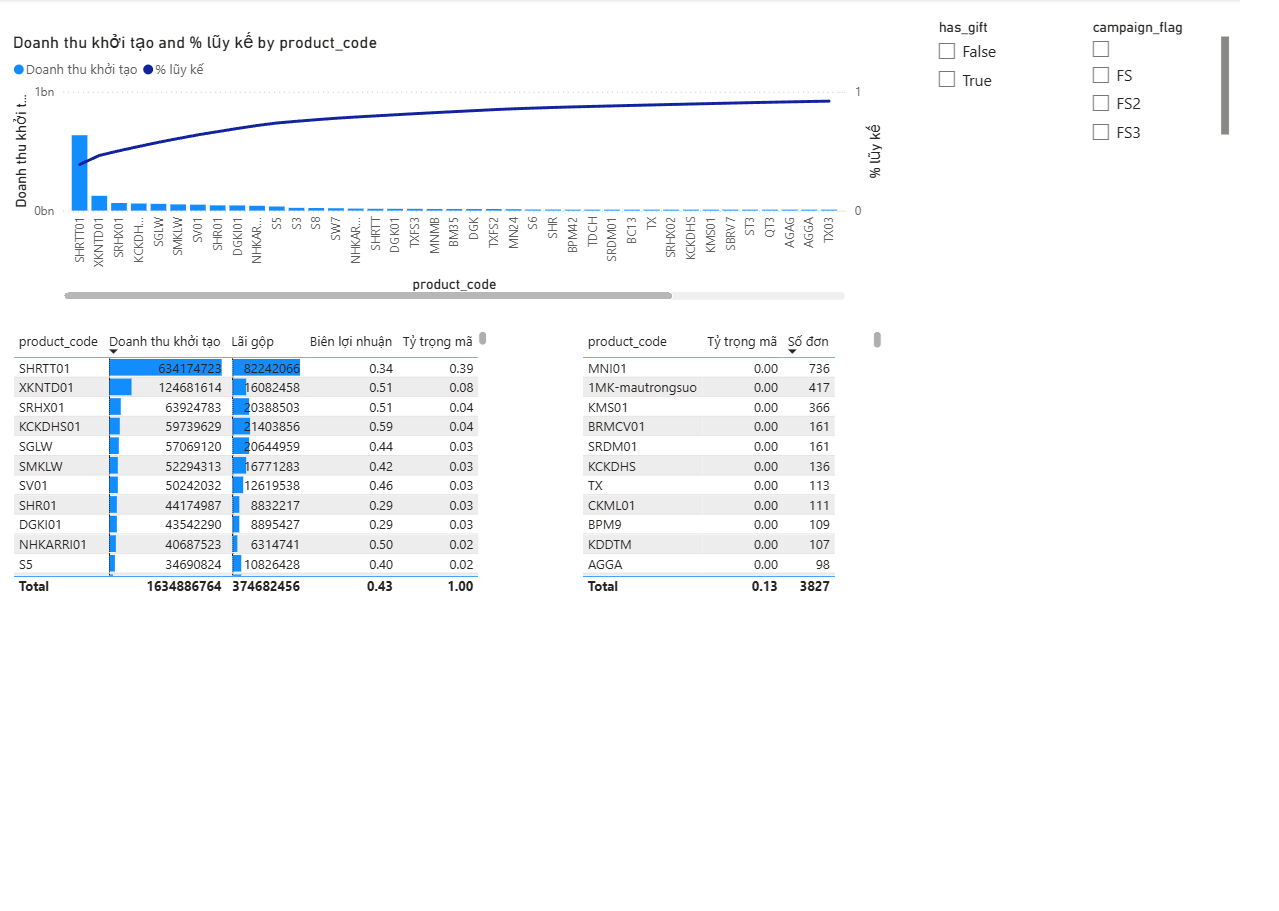

The dashboard page shown, as its layout file describes it:
{"tool":"powerbi","page":{"name":"Sản phẩm","canvas":[1280,720],"ordinal":1},"visuals":[{"type":"lineClusteredColumnComboChart","fields":{"Category":["dim_product.product_code"],"Y":["_Measures.Doanh thu khởi tạo"],"Y2":["_Measures.% lũy kế"]},"box":[10.2,32.7,897.2,279.7],"z":0},{"type":"tableEx","fields":{"Values":["dim_product.product_code","_Measures.Doanh thu khởi tạo","_Measures.Lãi gộp","_Measures.Biên lợi nhuận","_Measures.Tỷ trọng mã"]},"box":[10.2,333.8,494,279.7],"z":1000},{"type":"tableEx","fields":{"Values":["dim_product.product_code","_Measures.Tỷ trọng mã","_Measures.Số đơn"]},"box":[591,333.8,316.4,279.7],"z":2000},{"type":"slicer","fields":{"Values":["fact_order_item.campaign_flag"]},"box":[1104.4,15.3,157.2,139.8],"z":3000},{"type":"slicer","fields":{"Values":["fact_order_item.has_gift"]},"box":[947.2,15.3,157.2,157.2],"z":4000}]}

Visuals, with their boxes on the page's 1280x720 design canvas (x1, y1, x2, y2). These are canvas units, not pixel positions in the 1279x911 screenshot, which may show the page scaled, cropped or inside an application window:
lineClusteredColumnComboChart - dim_product.product_code x _Measures.Doanh thu khởi tạo: bbox=(10, 33, 907, 312)
tableEx - dim_product.product_code x _Measures.Doanh thu khởi tạo: bbox=(10, 334, 504, 614)
tableEx - dim_product.product_code x _Measures.Tỷ trọng mã: bbox=(591, 334, 907, 614)
slicer - fact_order_item.campaign_flag: bbox=(1104, 15, 1262, 155)
slicer - fact_order_item.has_gift: bbox=(947, 15, 1104, 172)
